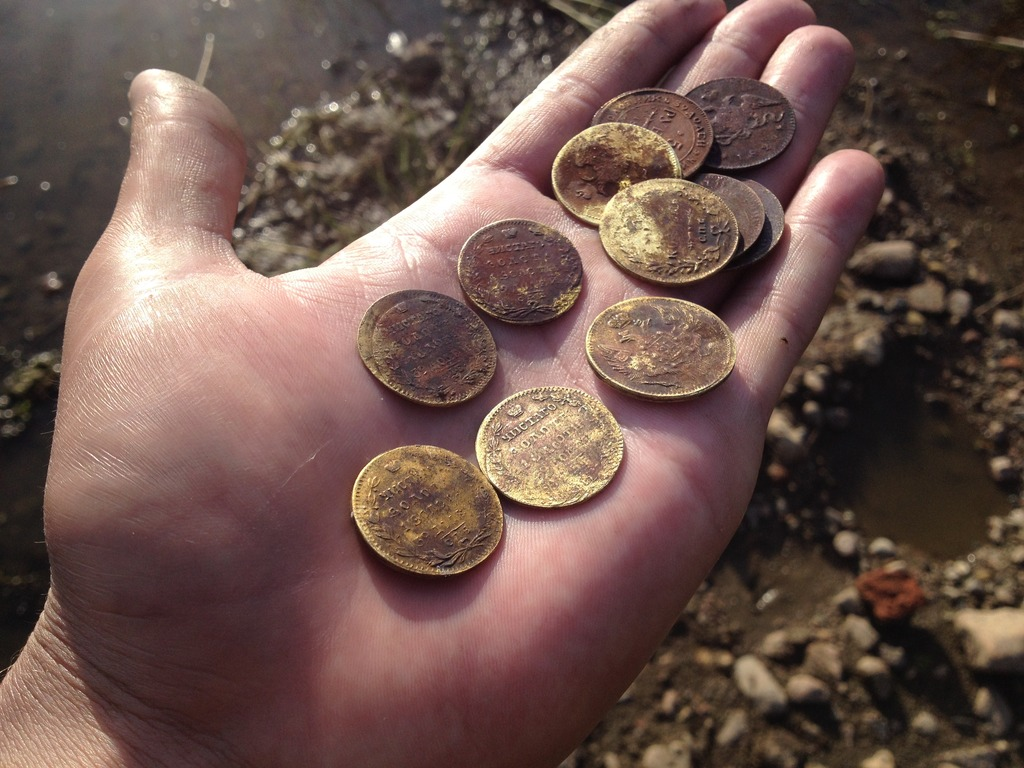coin: (352, 445, 505, 575), (477, 386, 624, 506), (359, 291, 497, 409), (598, 178, 739, 285), (586, 297, 737, 395), (457, 219, 586, 323), (554, 123, 683, 226), (592, 88, 713, 175), (687, 78, 797, 171)
